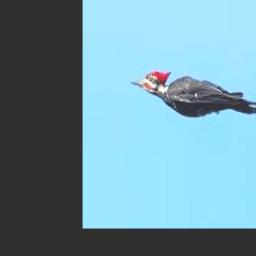Woodpecker: (132, 69, 256, 118)
